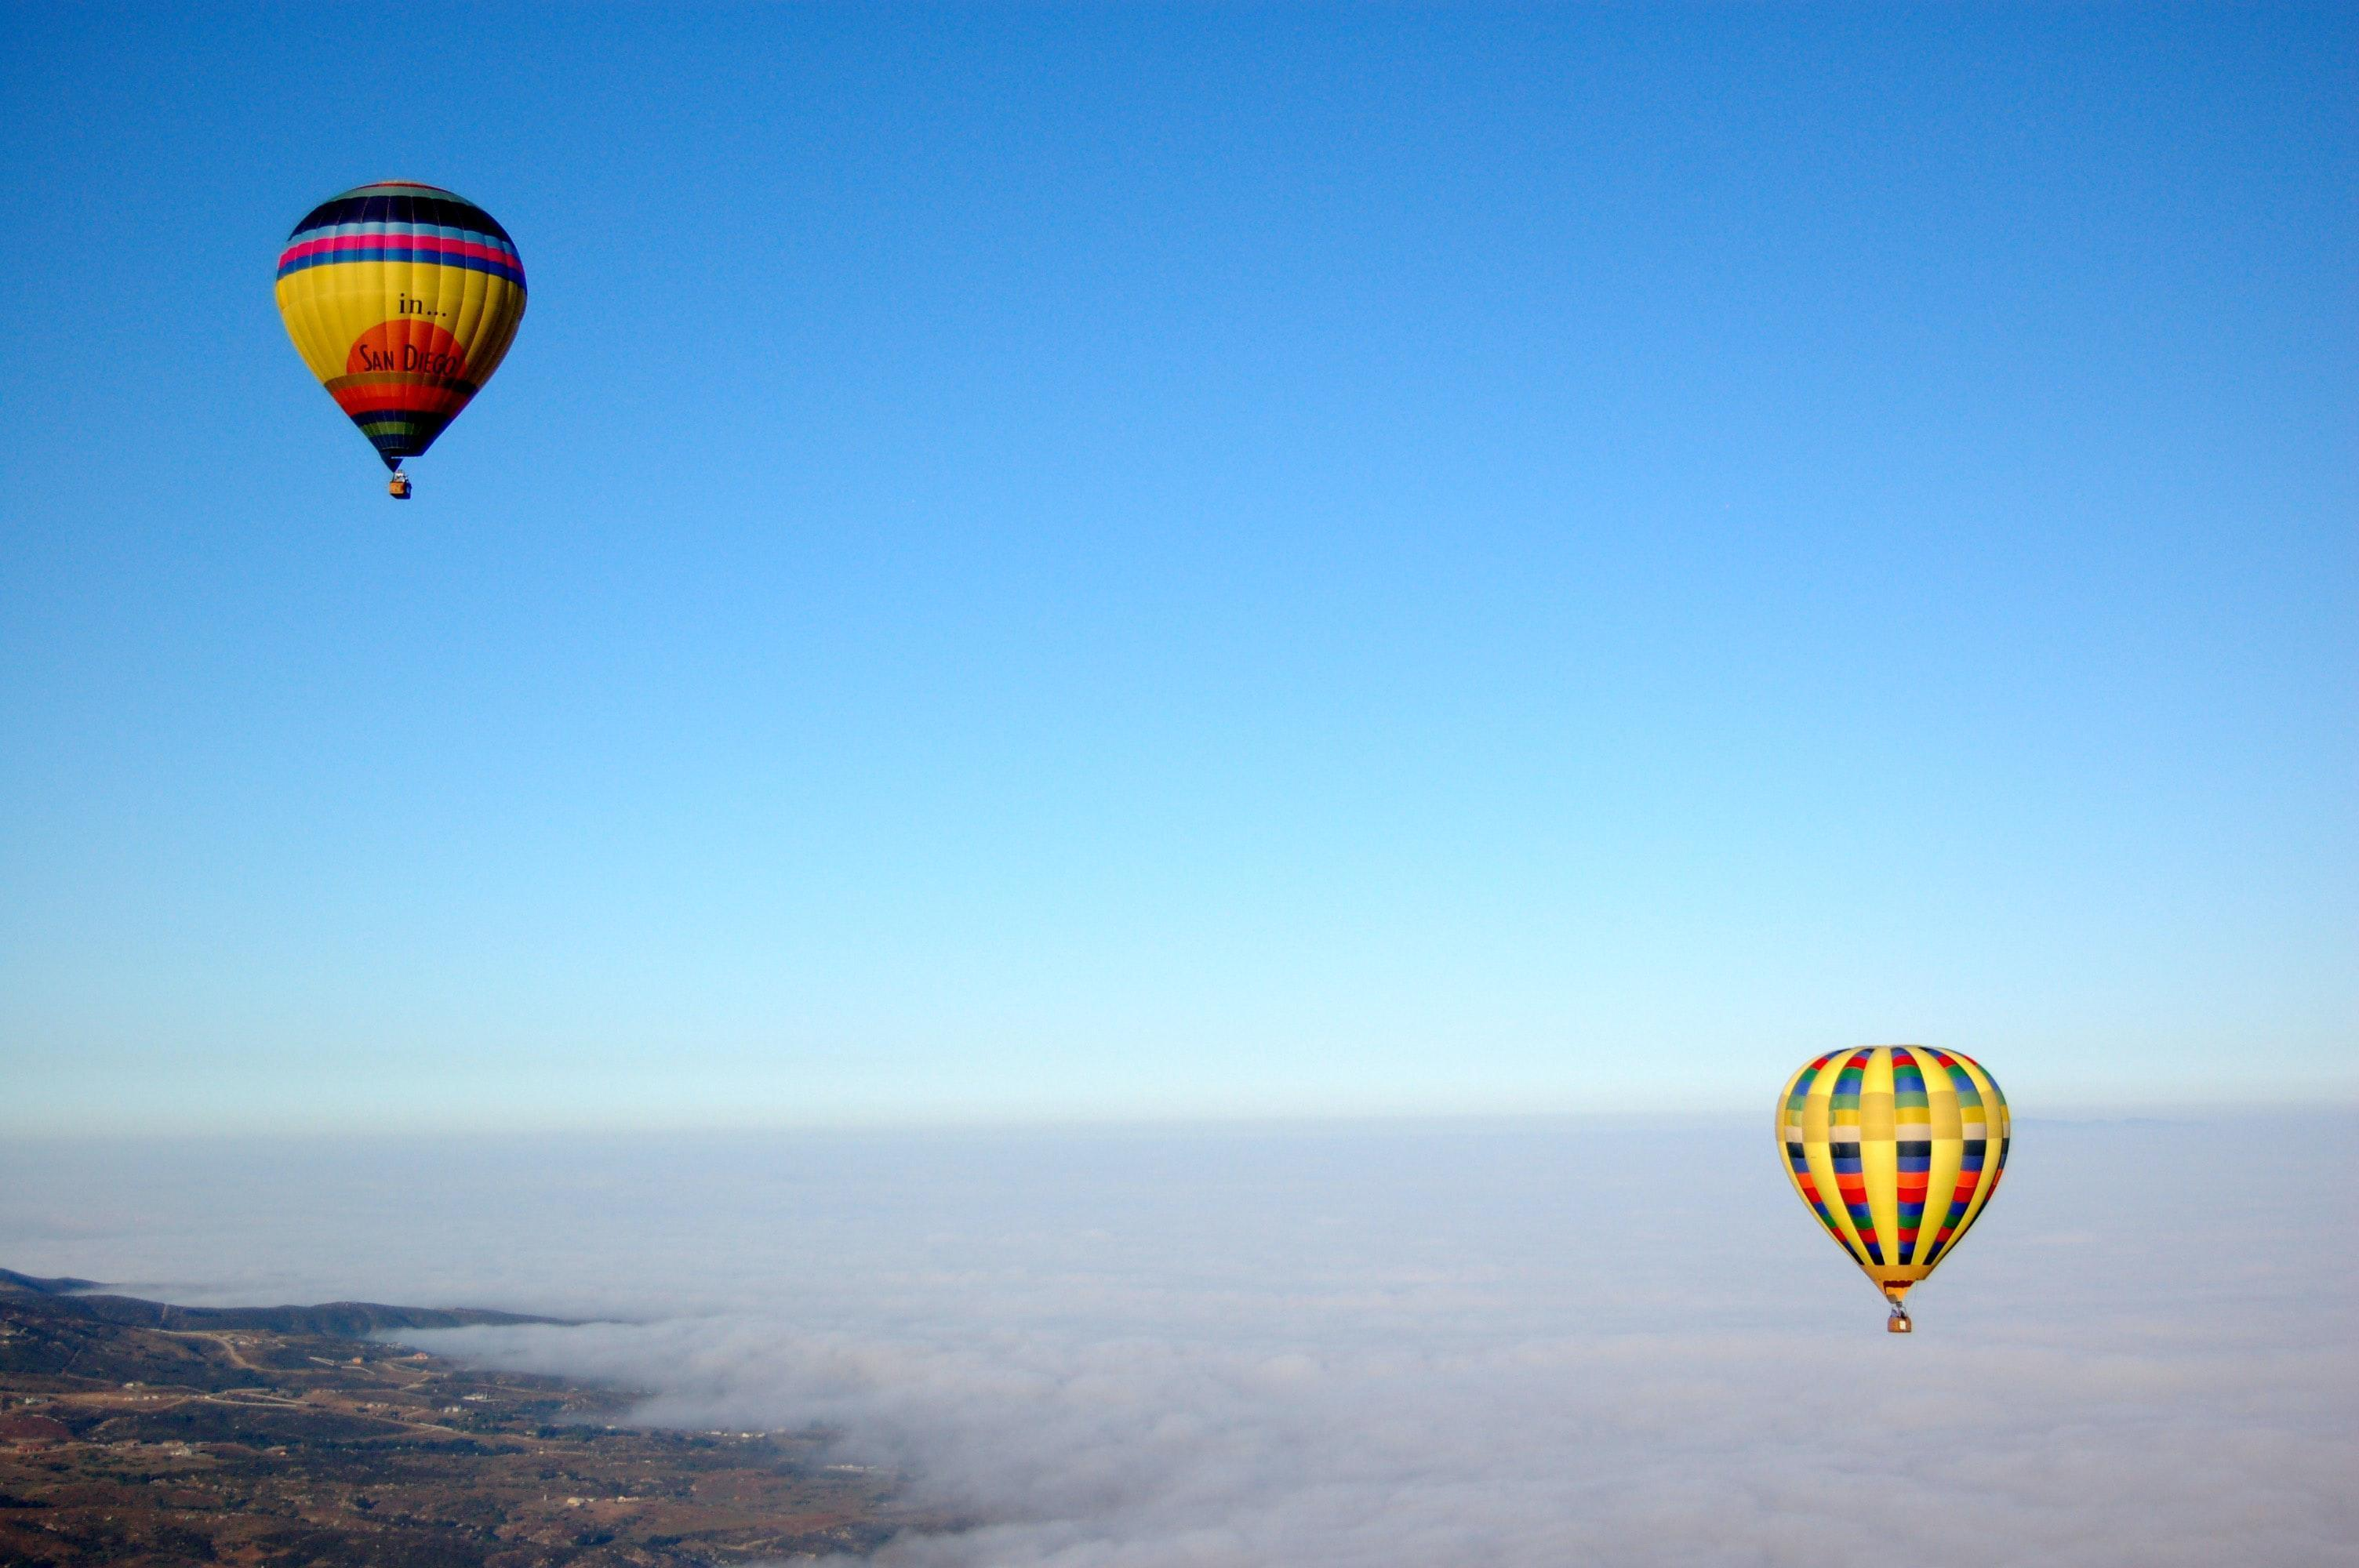hot air ballon: (275, 175, 530, 497), (1776, 1029, 2014, 1342)
